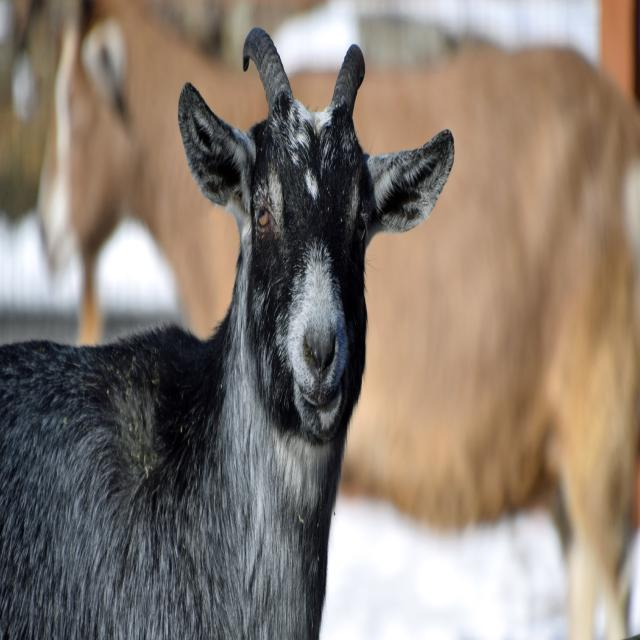Goat: (0, 26, 454, 640)
